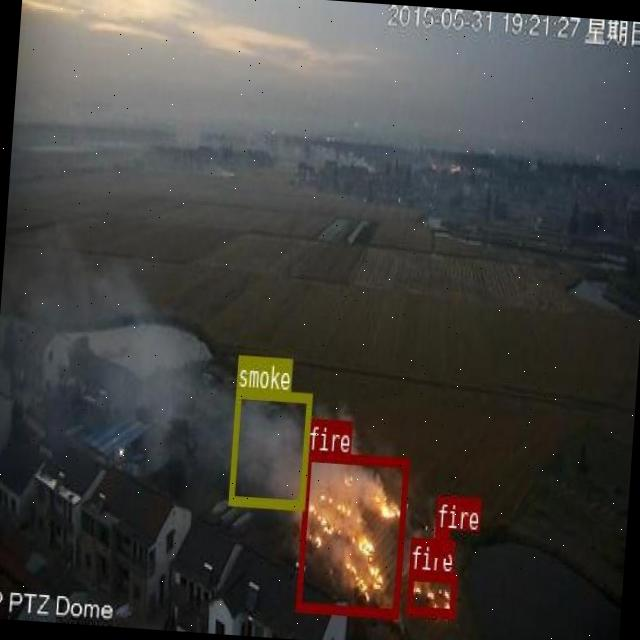fire: (294, 449, 408, 616), (404, 569, 456, 617), (432, 528, 449, 556)
smoke: (227, 388, 311, 508)
